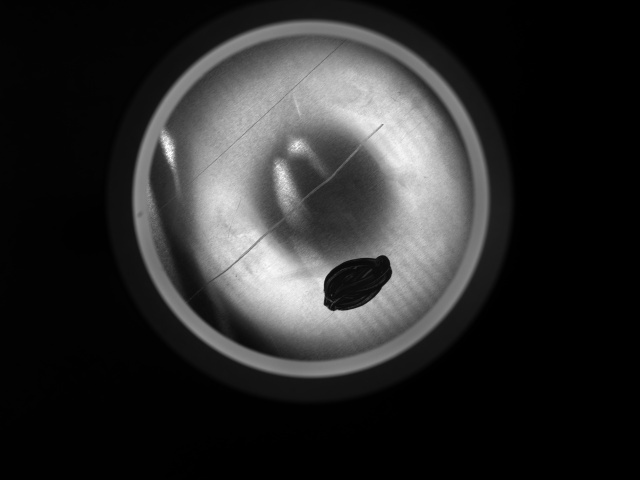ca_shang: (158, 42, 350, 209), (197, 122, 382, 289)
zang_wu: (322, 253, 394, 313)
